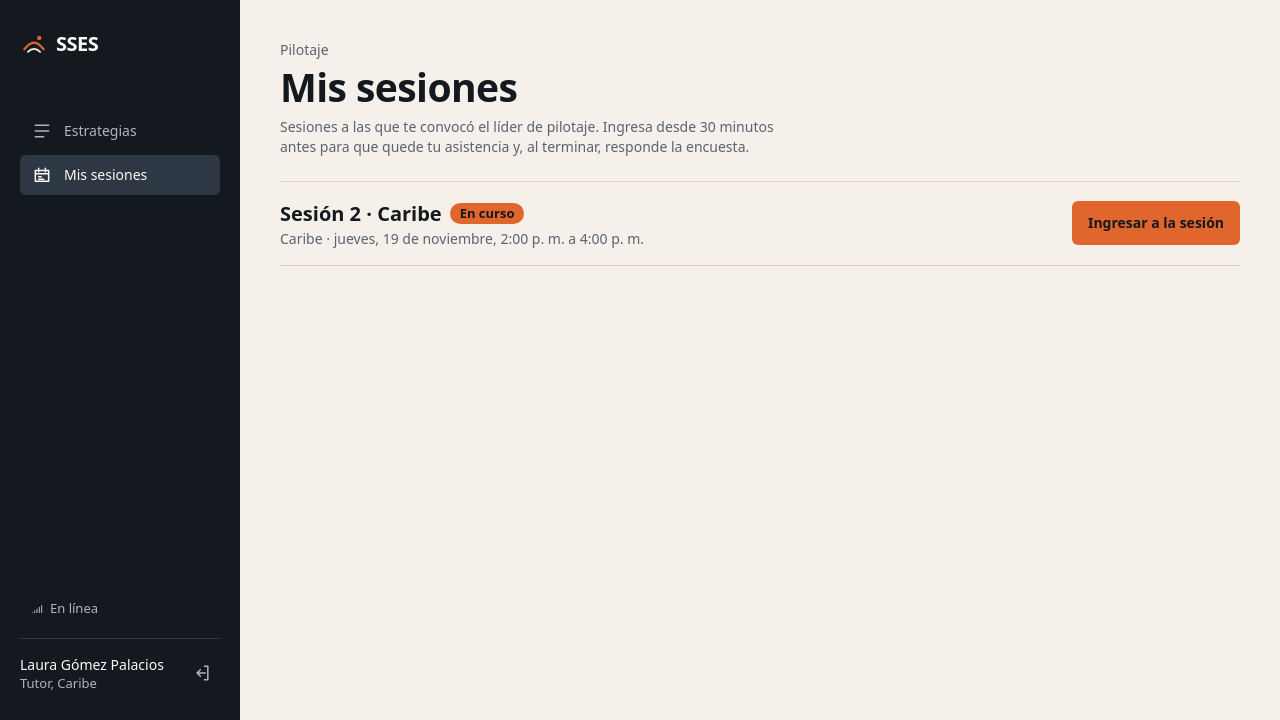
Test: Mis sesiones · tutor › flujo 3A: si no está convocado se le informa su sesión asignada
Click the button "Ingresar a la sesión" at (1156, 223), box x1=1072 y1=201 x2=1240 y2=245
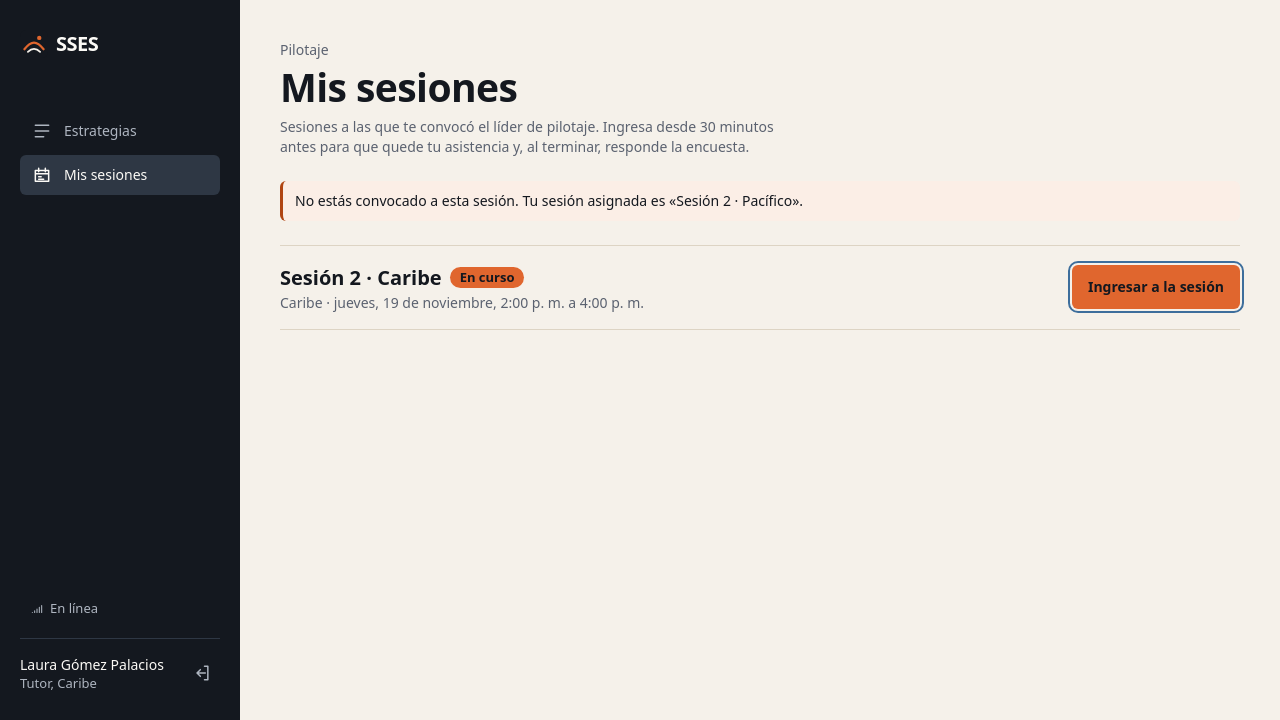
Now the text "No estás convocado a esta sesión. Tu sesión asignada es «Sesión 2 · Pacífico»." is shown, box x1=280 y1=181 x2=1240 y2=221
